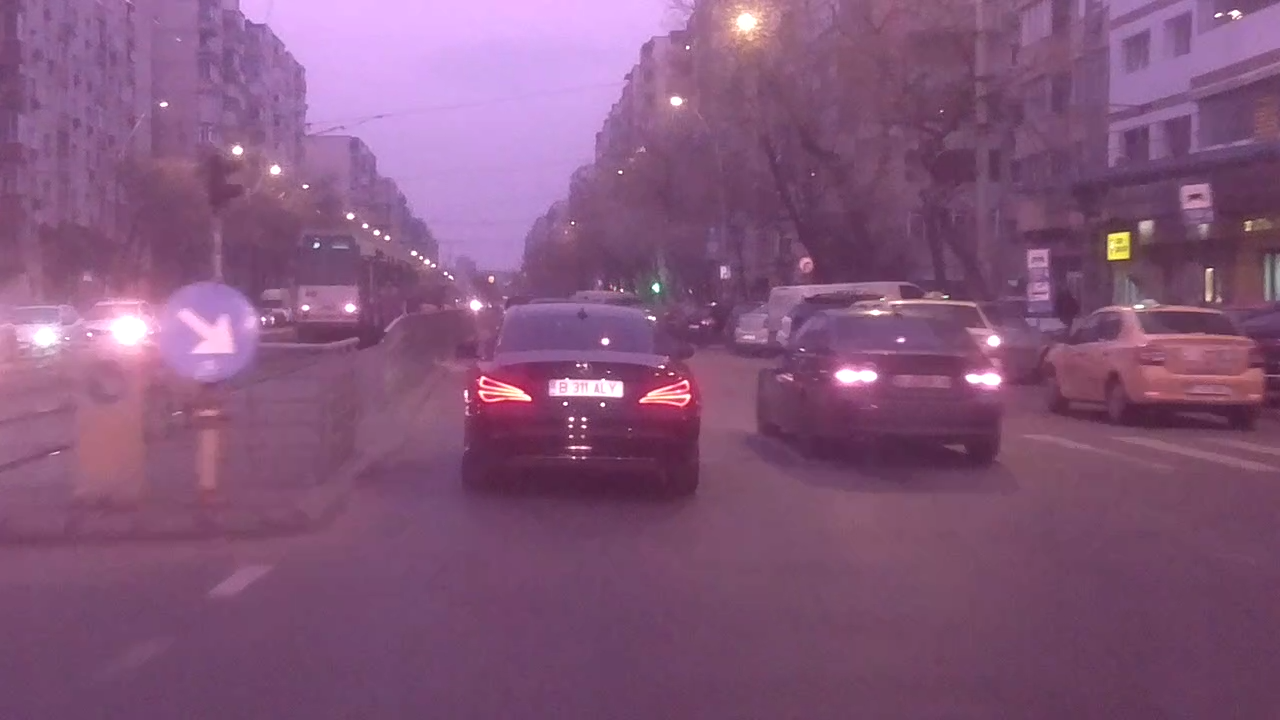license-plate: (544, 376, 626, 399)
